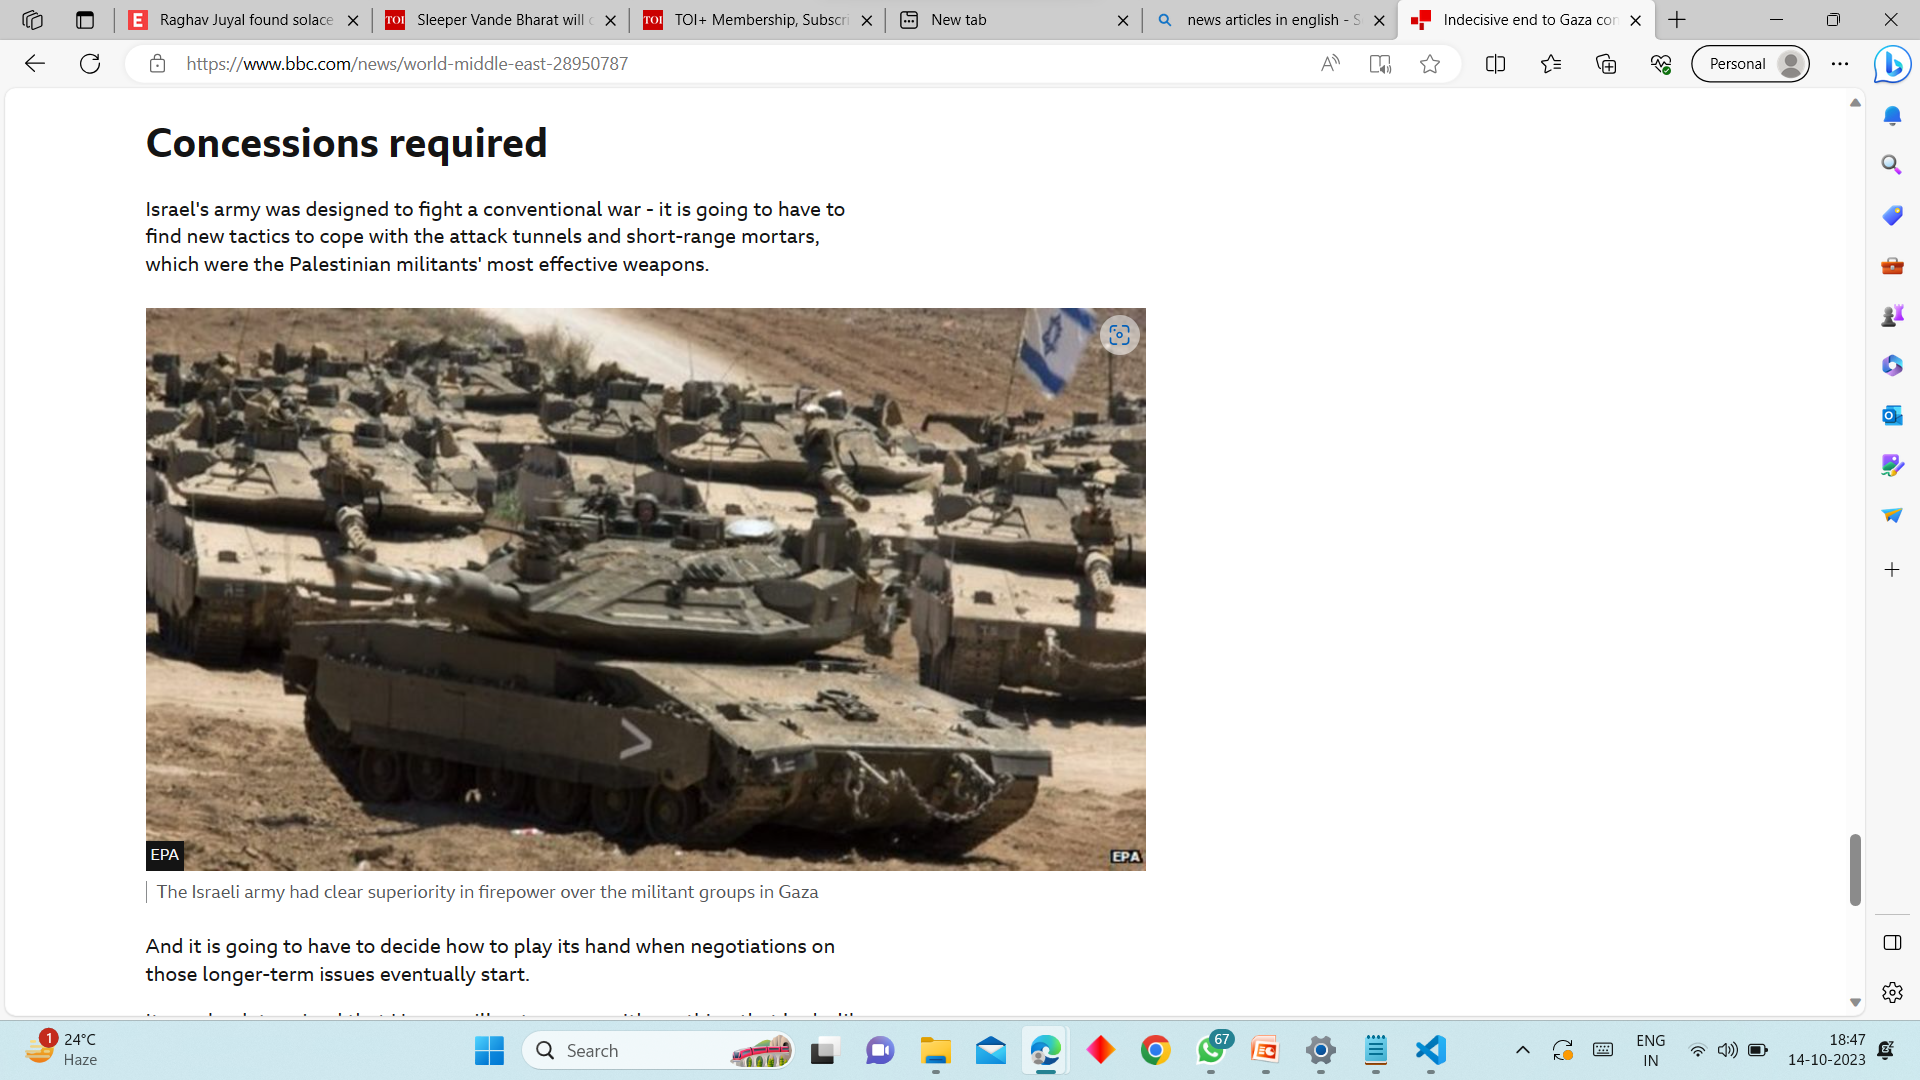Image: (145, 311, 1143, 870)
Paragraph: (143, 195, 870, 282), (141, 926, 850, 993), (148, 879, 847, 912), (141, 125, 586, 172)
